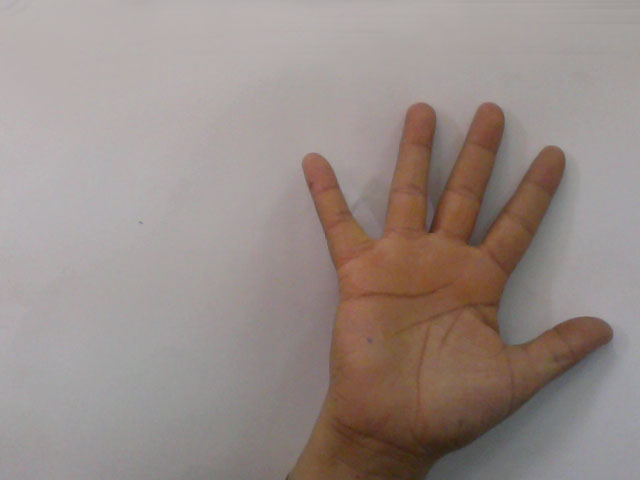hand: (289, 89, 622, 437)
